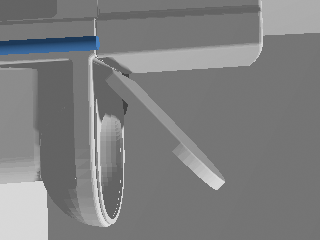lid_1: (104, 71, 226, 191)
